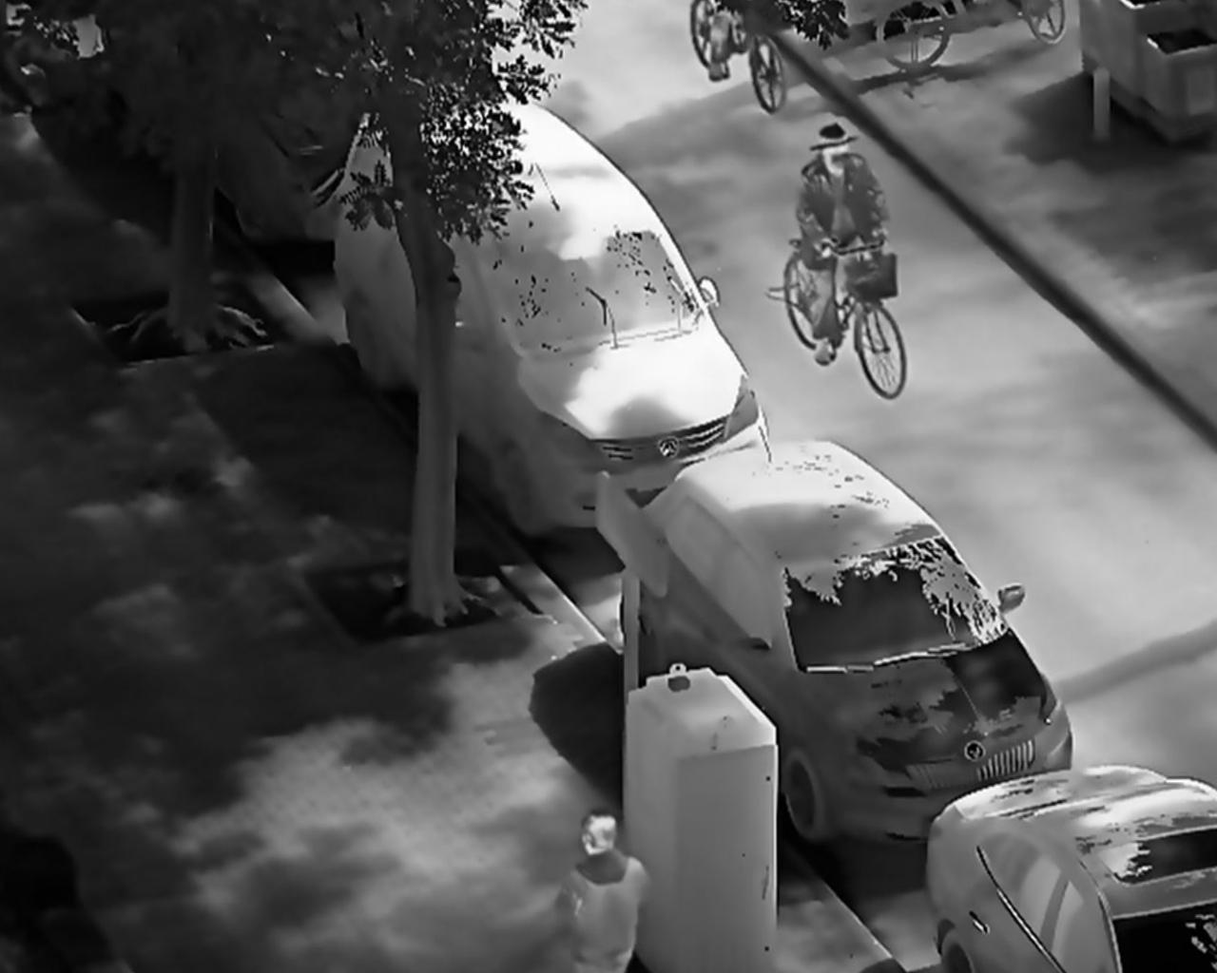person: (791, 121, 896, 372), (552, 808, 657, 973)
